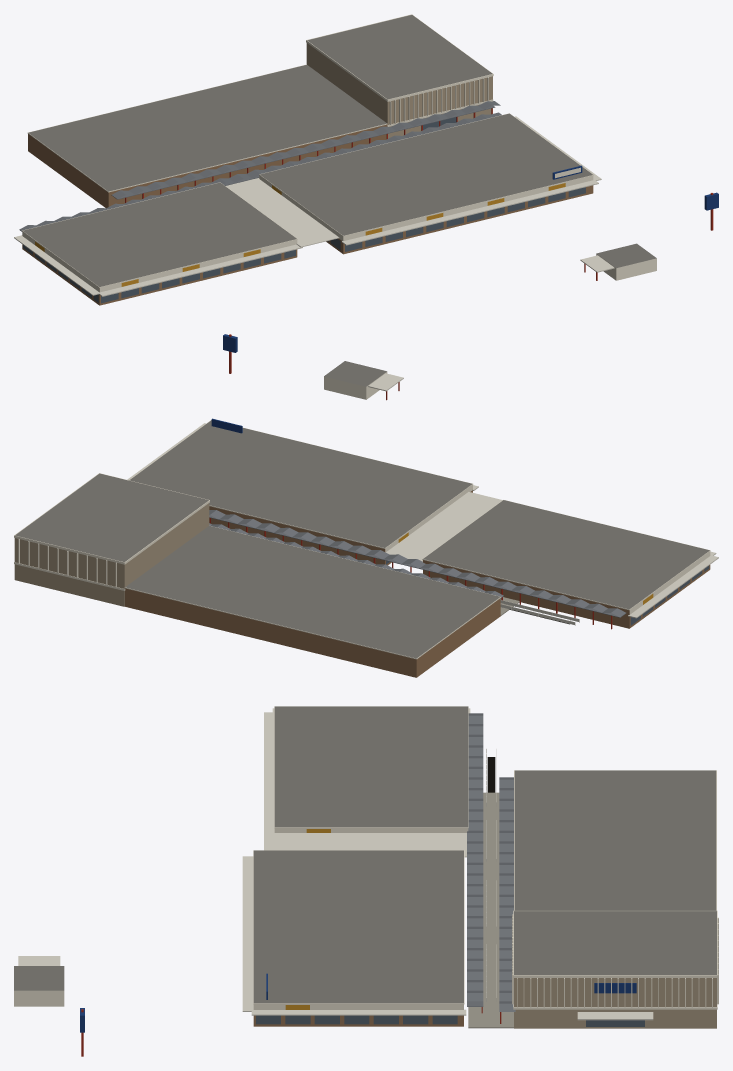
The model's file is park-plaza-1985.glb.
3 views of the same model, one above another, from view 1: azimuth 30°, elevation 25°; view 2: azimuth 150°, elevation 25°; view 3: azimuth 270°, elevation 25° (orthographic). The views are drawn at different scales.
Parts seen in each view (by area): view 1: park_plaza_1985; view 2: park_plaza_1985; view 3: park_plaza_1985.
Boxes of the visible parts, x1,y1,x2,y2 form: park_plaza_1985: (14,14,718,305); park_plaza_1985: (14,334,718,677); park_plaza_1985: (14,706,718,1056).
Size of the model in its own units: 189 by 14.05 by 168.
